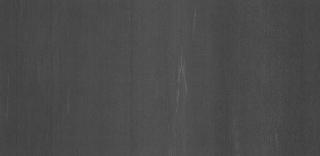silk spot: (168, 52, 200, 112)
